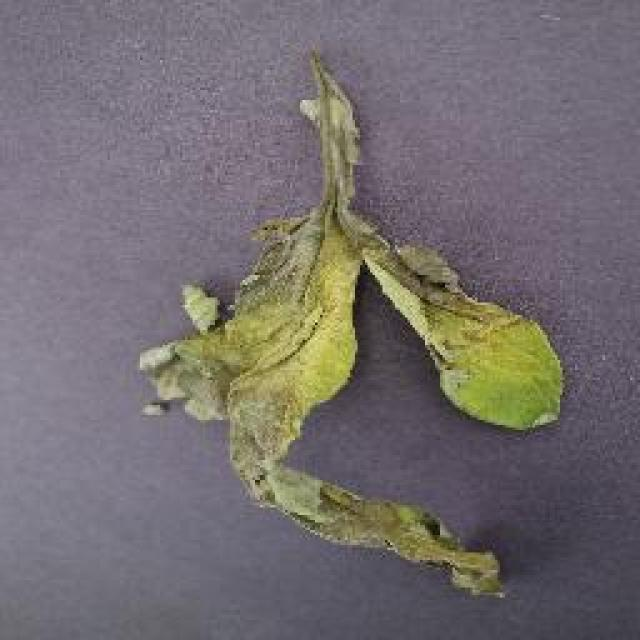Tomato___Late_blight: (138, 52, 565, 600)
